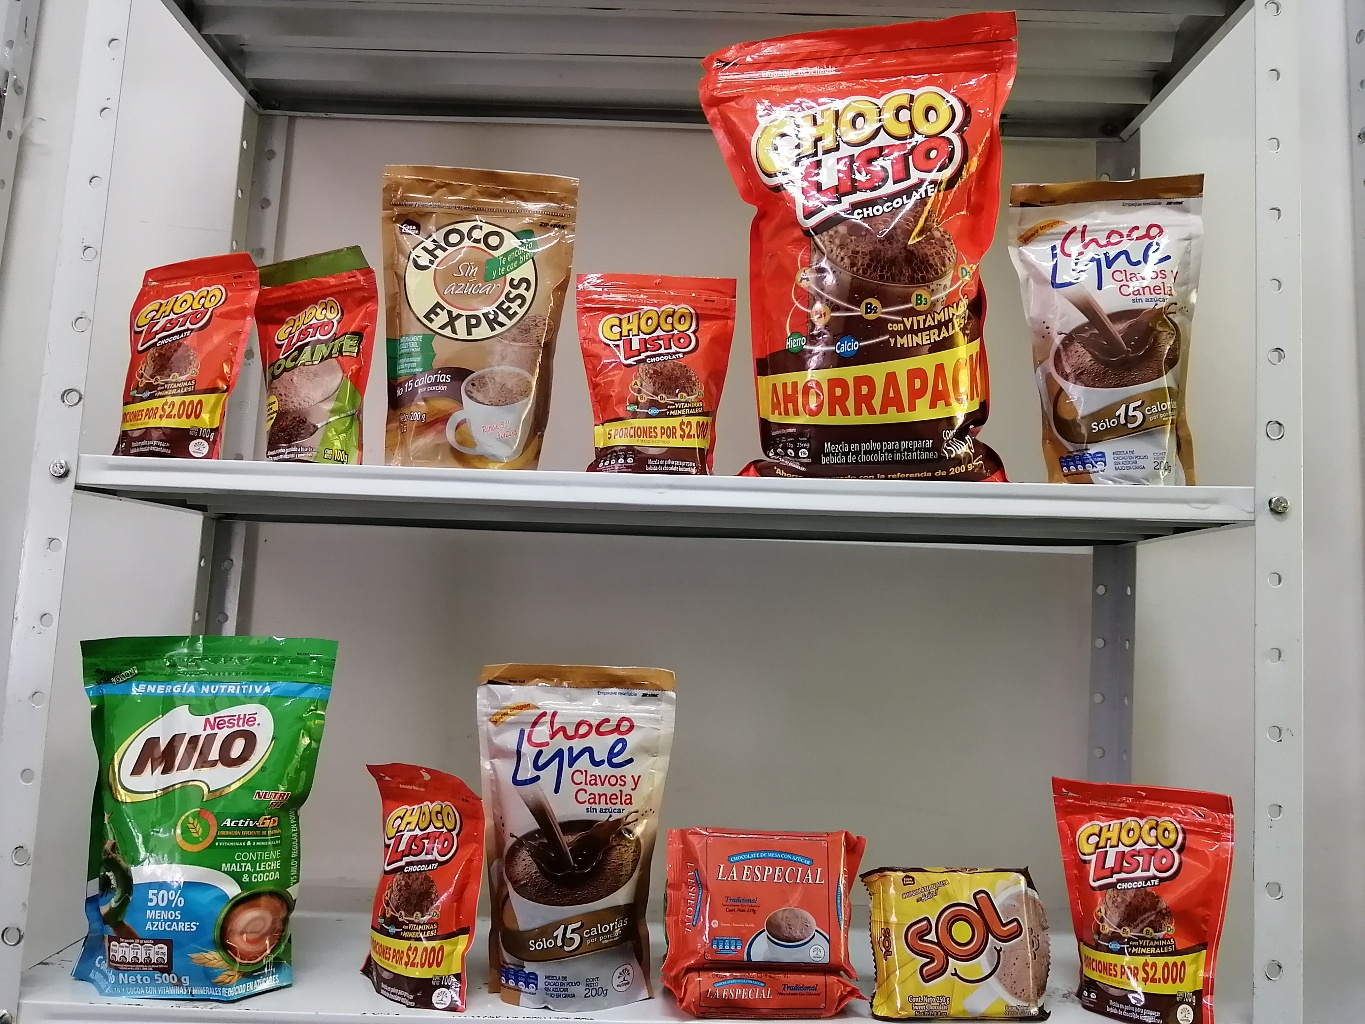COL0170102DYP10000: (251, 246, 376, 467)
COL0170103DYP1,500: (693, 20, 1021, 481)
COL0170205DYP50000: (74, 630, 331, 1002)
